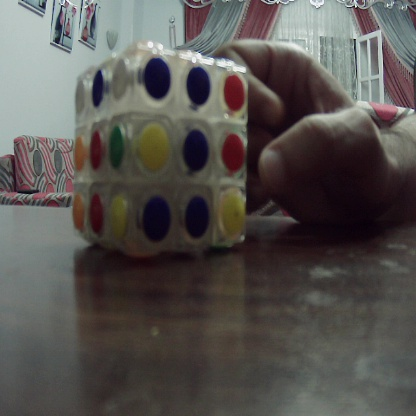Rubix Cube: (72, 46, 247, 254)
